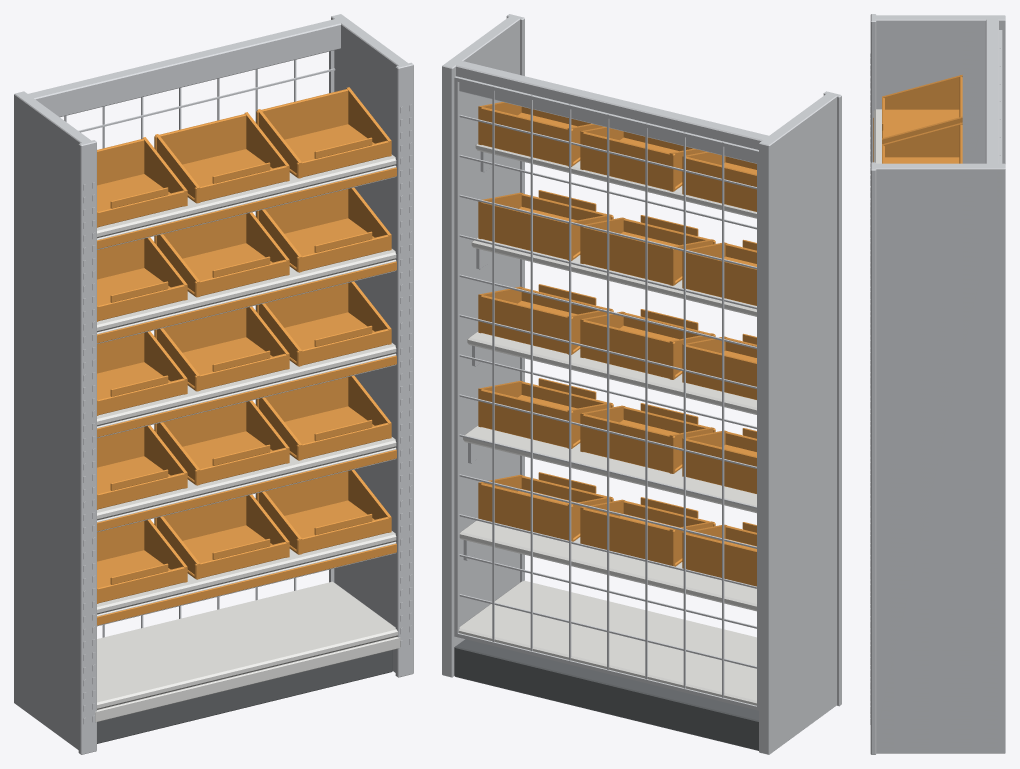
3 views of the same model, side by side, from view 1: azimuth 30°, elevation 25°; view 2: azimuth 150°, elevation 25°; view 3: azimuth 270°, elevation 25° (orthographic). The views are drawn at different scales.
Parts seen in each view (by area): view 1: shop-bay-bin-fronts; view 2: shop-bay-bin-fronts; view 3: shop-bay-bin-fronts.
Boxes of the visible parts, x1,y1,x2,y2 form: shop-bay-bin-fronts: (14,14,413,754); shop-bay-bin-fronts: (442,14,841,754); shop-bay-bin-fronts: (870,14,1005,754).
Bounding box in the file's own units: 1.37 × 2.4 × 0.503.
